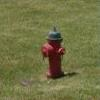Hydrant: (35, 21, 76, 82)
